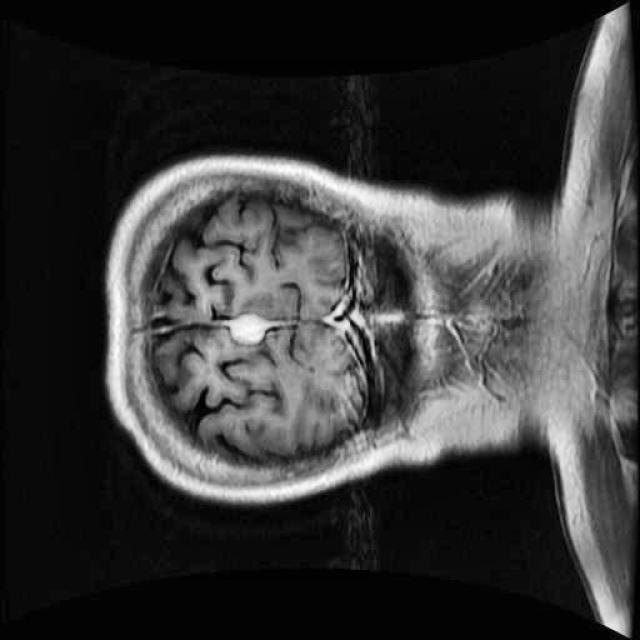Tumor: (213, 301, 285, 361)
